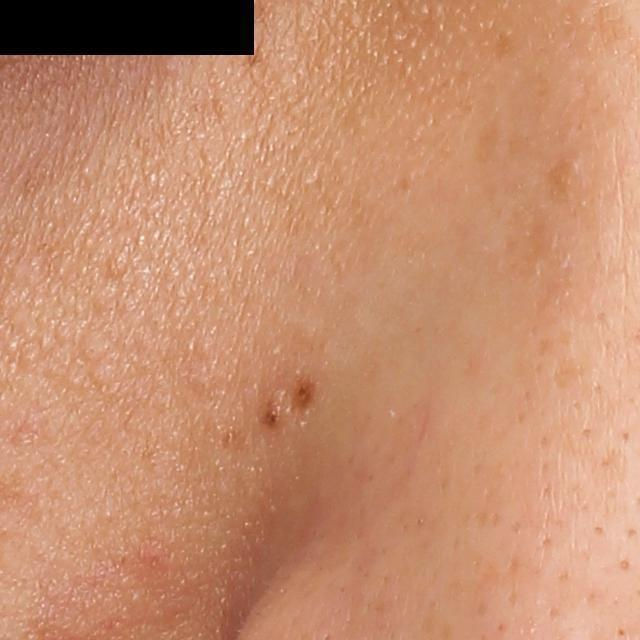melasma: (510, 216, 551, 284), (540, 156, 569, 203), (469, 124, 495, 162), (486, 26, 510, 57), (242, 38, 264, 67)
nevus: (255, 397, 289, 436), (289, 371, 318, 414)
